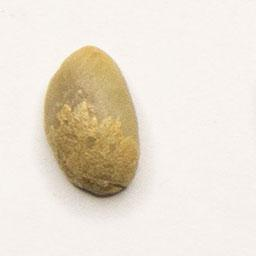longberry: (40, 42, 144, 200)
